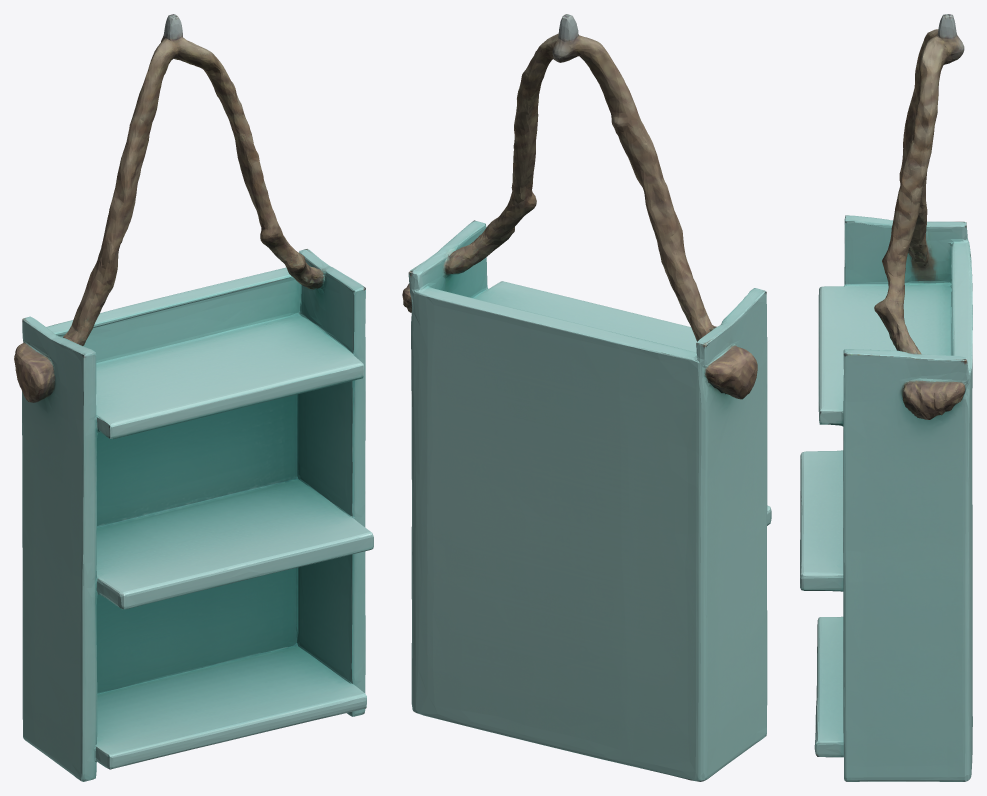
The model's file is hanging_shelves_rope.glb.
3 views of the same model, side by side, from view 1: azimuth 30°, elevation 25°; view 2: azimuth 150°, elevation 25°; view 3: azimuth 270°, elevation 25° (orthographic). The views are drawn at different scales.
Parts seen in each view (by area): view 1: world; view 2: world; view 3: world.
Boxes of the visible parts, x1,y1,x2,y2 form: world: (14,14,373,781); world: (402,14,771,781); world: (800,14,972,781).
Size of the model in its own units: 0.4893 by 1 by 0.2242.
1 material, 1 textured.
